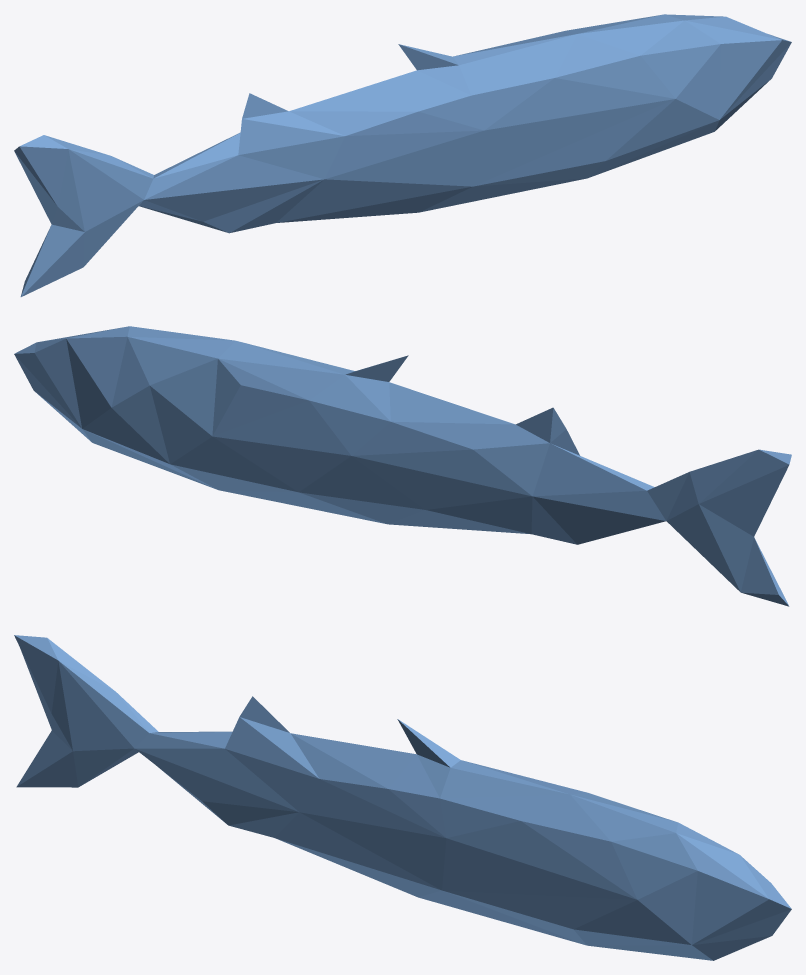
3 renders of one model, top to bottom at view 1: azimuth 30°, elevation 25°; view 2: azimuth 150°, elevation 25°; view 3: azimuth 330°, elevation 25°, orthographic.
Visible parts, largest first — view 1: mesh; view 2: mesh; view 3: mesh.
Part boxes in pixels (left/top/right/bottom): mesh: left=14, top=14, right=791, bottom=296; mesh: left=14, top=326, right=791, bottom=606; mesh: left=14, top=635, right=791, bottom=960.
Bounding box in the file's own units: 0.2 × 0.0446 × 0.0178.
